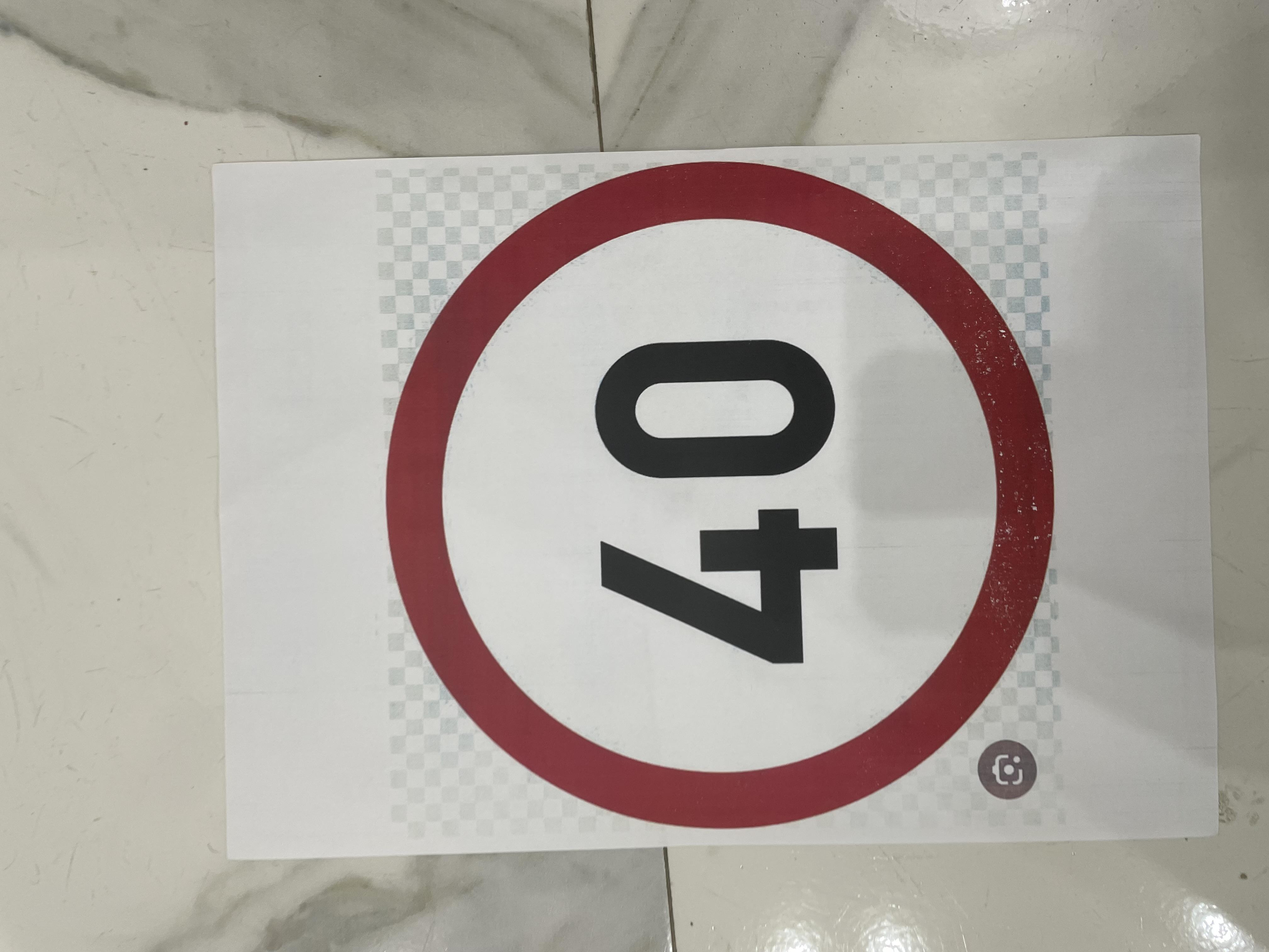40-Speed: (127, 251, 1120, 810)
